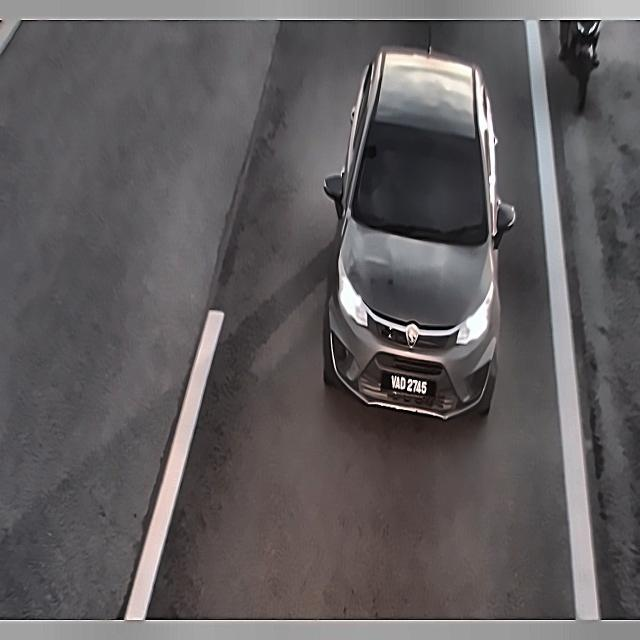car: (380, 370, 438, 402)
